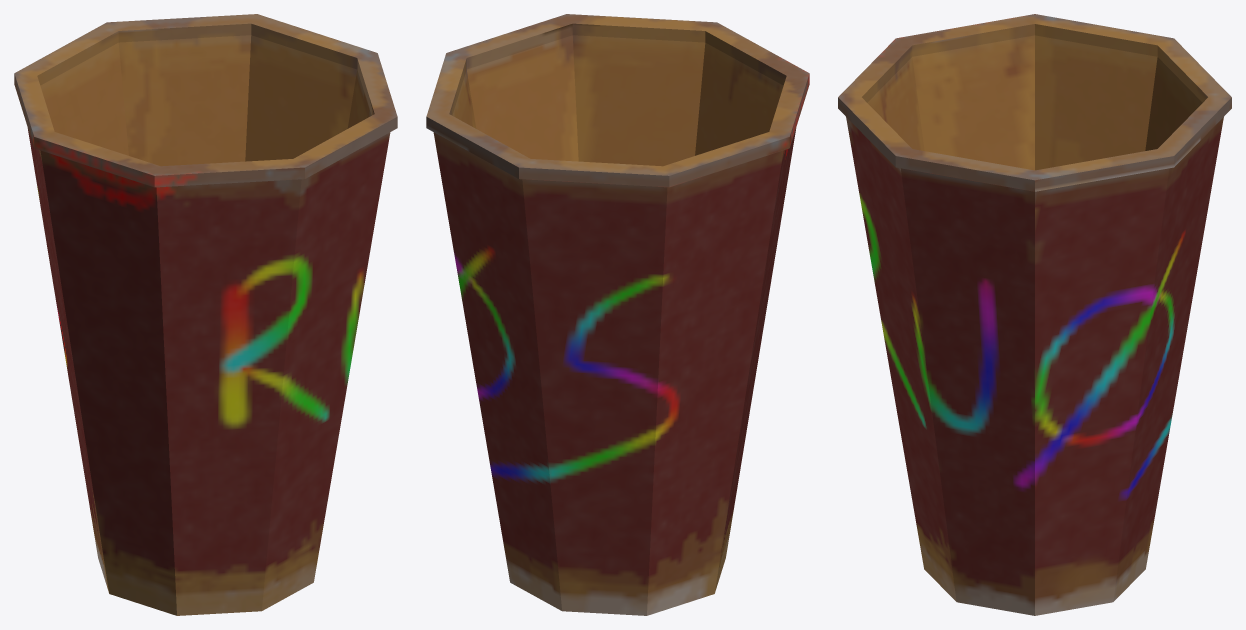
The model's file is bicchiere.glb.
3 views of the same model, side by side, from view 1: azimuth 30°, elevation 25°; view 2: azimuth 150°, elevation 25°; view 3: azimuth 270°, elevation 25° (orthographic).
Visible parts, largest first — view 1: BICCHIERE_1; view 2: BICCHIERE_1; view 3: BICCHIERE_1.
Boxes of the visible parts, x1,y1,x2,y2 form: BICCHIERE_1: [14, 14, 397, 615]; BICCHIERE_1: [426, 14, 809, 615]; BICCHIERE_1: [838, 14, 1231, 615].
Bounding box in the file's own units: 0.0858 × 0.1134 × 0.0858.
1 material, 1 textured.
